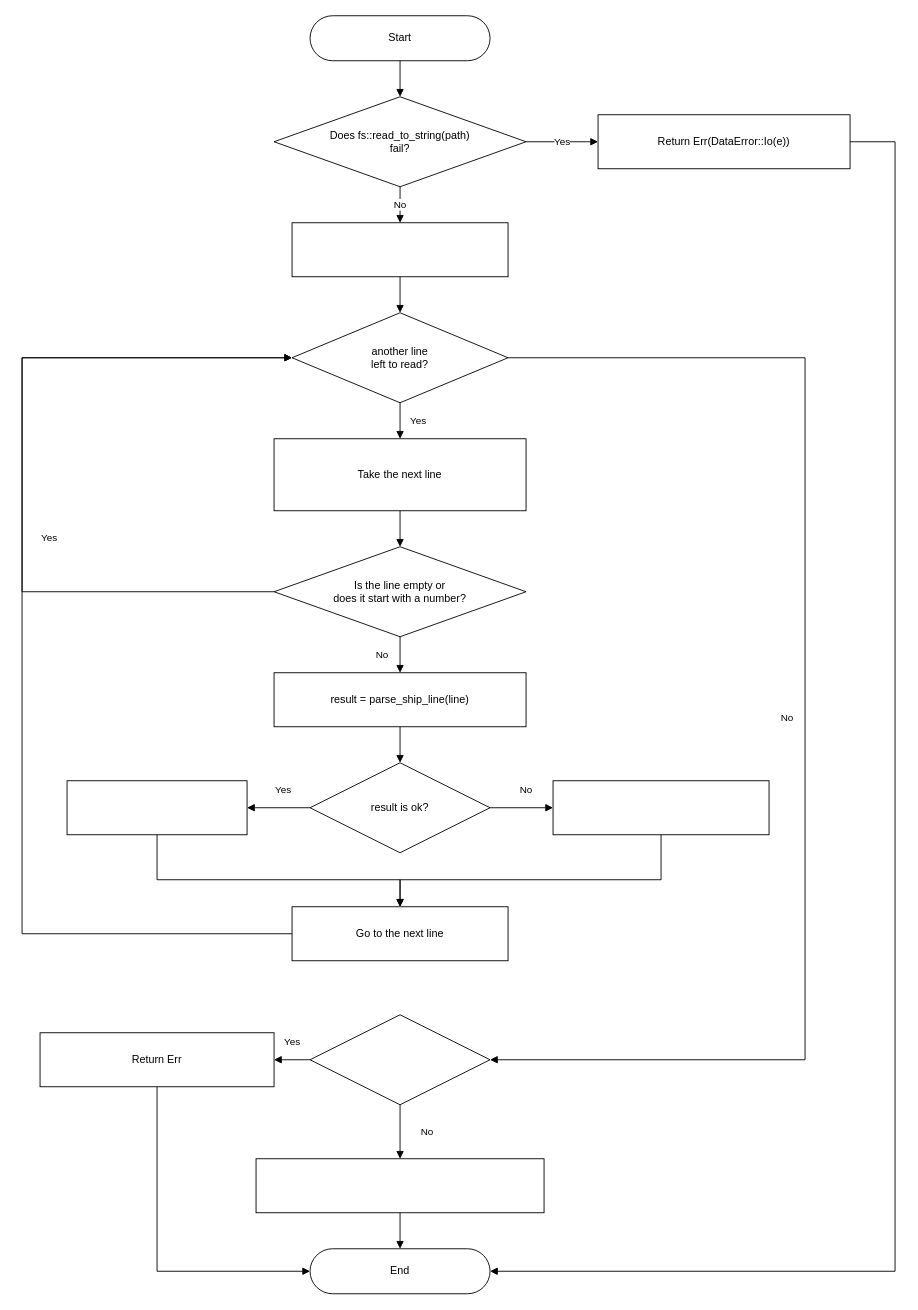
The diagram is 918 pixels wide and 1310 high, and some of its shapes have lost their labels. Here are the shapes that lost their labels. From the top down, the centre of each, then its label:
(399,249): fleet = empty list skipped = empty list
(156,807): fleet.push(ship)
(660,807): skipped.push((line_number, error))
(399,1059): fleet is empty ?
(399,1185): Return Ok
